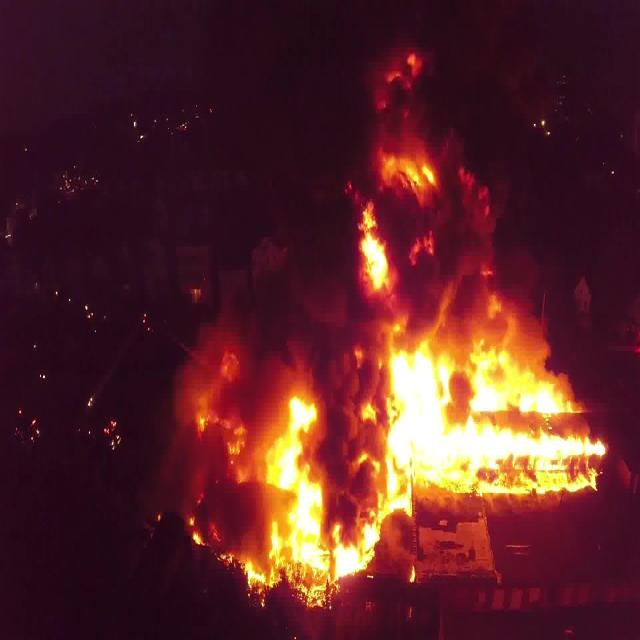Fire: (180, 220, 602, 600)
Smoke: (185, 7, 542, 549)
